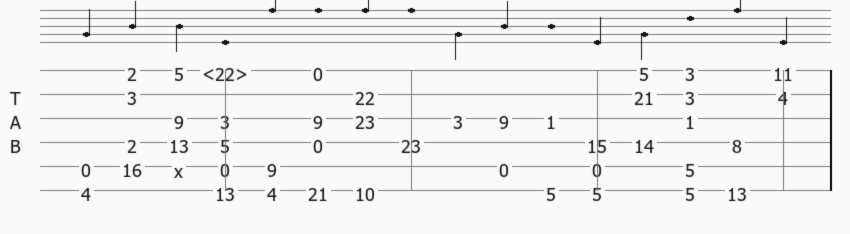0: (81, 158, 95, 175), (220, 158, 234, 175), (313, 62, 327, 79), (313, 134, 327, 151), (499, 158, 513, 175), (592, 158, 606, 175)
1: (546, 110, 560, 127), (685, 110, 699, 127)
10: (355, 182, 379, 199)
11: (773, 62, 797, 79)
13: (169, 134, 193, 151), (215, 182, 239, 199), (727, 182, 751, 199)
14: (634, 134, 658, 151)
15: (587, 134, 611, 151)
16: (122, 158, 146, 175)
2: (127, 134, 141, 151), (127, 62, 141, 79)
21: (308, 182, 332, 199), (634, 86, 658, 103)
22: (355, 86, 379, 103)
23: (355, 110, 379, 127), (401, 134, 425, 151)
3: (127, 86, 141, 103), (220, 110, 234, 127), (453, 110, 467, 127), (685, 62, 699, 79), (685, 86, 699, 103)
4: (81, 182, 95, 199), (267, 182, 281, 199), (778, 86, 792, 103)
5: (174, 62, 188, 79), (220, 134, 234, 151), (546, 182, 560, 199), (592, 182, 606, 199), (639, 62, 653, 79), (685, 182, 699, 199), (685, 158, 699, 175)
8: (732, 134, 746, 151)
9: (174, 110, 188, 127), (267, 158, 281, 175), (313, 110, 327, 127), (499, 110, 513, 127)
harmonic: (202, 62, 252, 79)
x: (174, 159, 187, 173)
